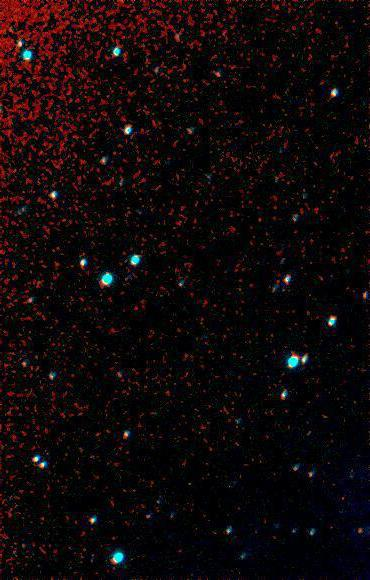star: (342, 515, 370, 545)
